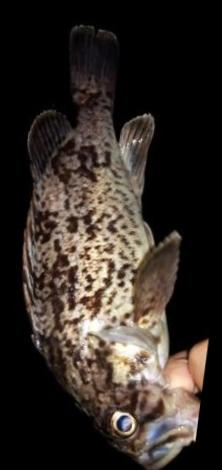fish: (21, 21, 202, 470)
